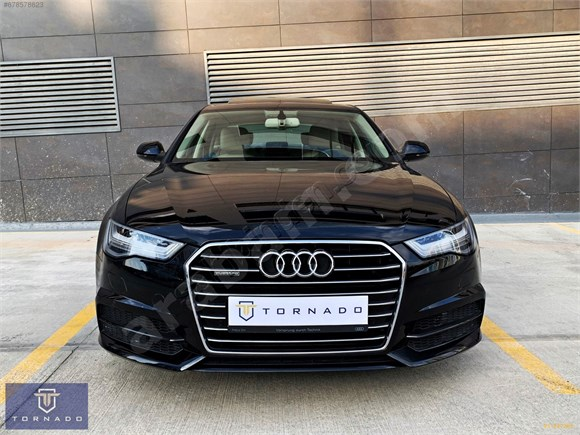audi: (252, 246, 338, 281)
